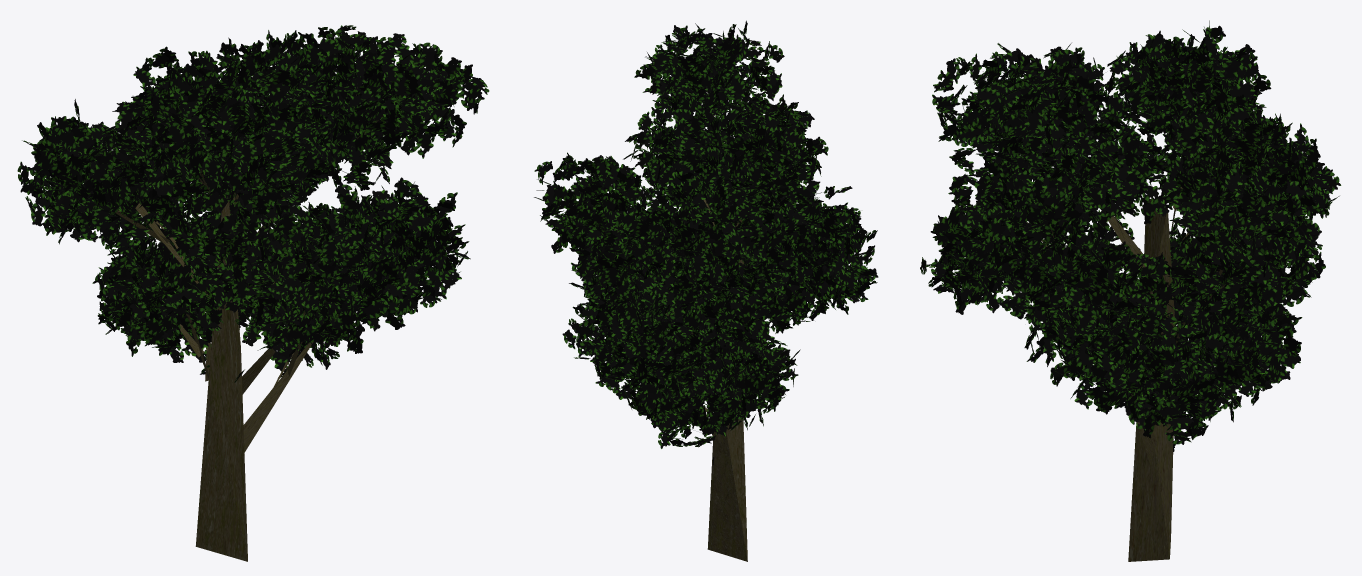
The model's file is broadleaf_giant_v01_LOD1.fbx.
3 renders of one model, left to right at view 1: azimuth 30°, elevation 25°; view 2: azimuth 150°, elevation 25°; view 3: azimuth 270°, elevation 25°, orthographic. The views are drawn at different scales.
Parts seen in each view (by area): view 1: broadleaf_giant_v01_LOD1; view 2: broadleaf_giant_v01_LOD1; view 3: broadleaf_giant_v01_LOD1.
Part boxes in pixels (left/top/right/bottom): broadleaf_giant_v01_LOD1: left=17, top=25, right=489, bottom=561; broadleaf_giant_v01_LOD1: left=534, top=20, right=878, bottom=561; broadleaf_giant_v01_LOD1: left=920, top=20, right=1341, bottom=561.
Bounding box in the file's own units: 2518 × 2262 × 3220.
2 materials, 2 textured.
